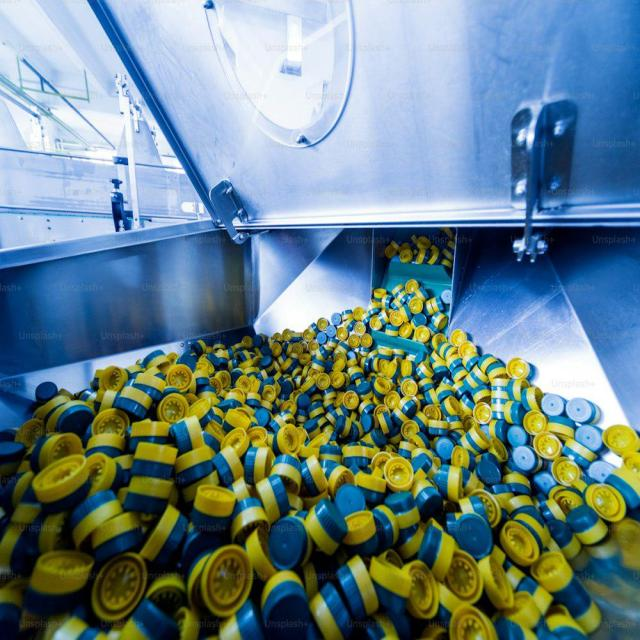plastic: (19, 372, 510, 601)
